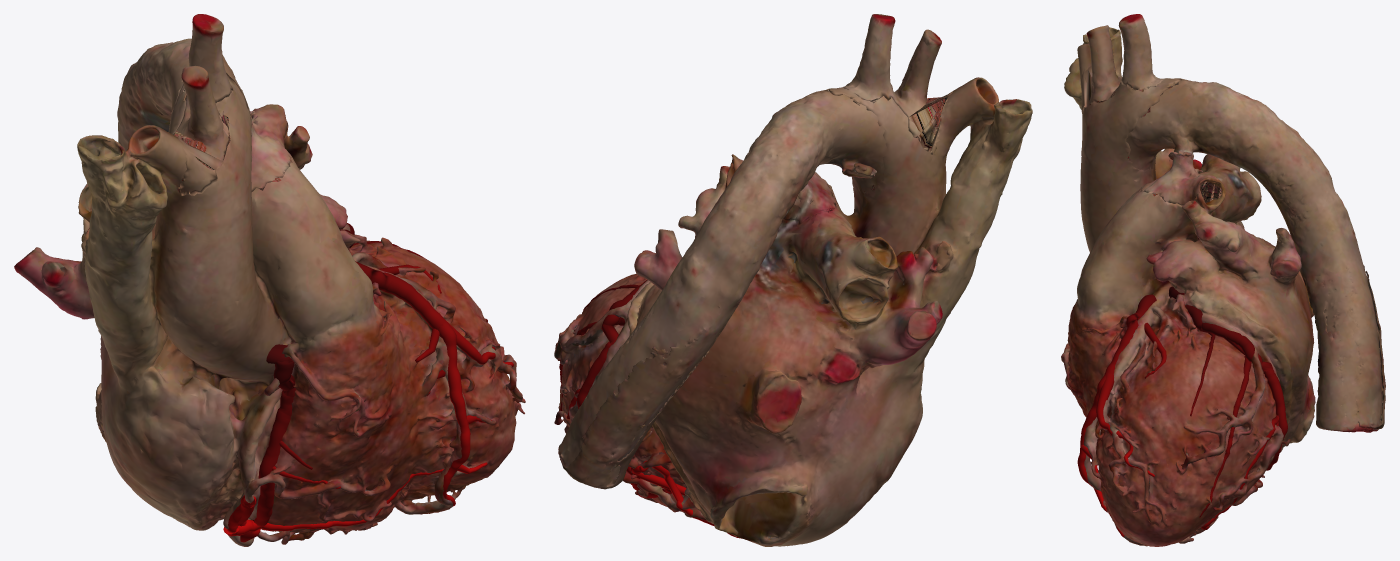
Rendered from heart-realistic.glb.
3 views of the same model, side by side, from view 1: azimuth 30°, elevation 25°; view 2: azimuth 150°, elevation 25°; view 3: azimuth 270°, elevation 25° (orthographic). The views are drawn at different scales.
Parts seen in each view (by area): view 1: Heart_Body, Aorta, RCA, LAD; view 2: Heart_Body, Aorta, LCX; view 3: Heart_Body, Aorta, LCX, LAD.
Part boxes in pixels (x1=…): Heart_Body: x1=14, y1=73, x2=525, y2=546; Aorta: x1=117, y1=14, x2=291, y2=195; RCA: x1=223, y1=344, x2=443, y2=542; LAD: x1=355, y1=261, x2=513, y2=506; Heart_Body: x1=554, y1=77, x2=1032, y2=546; Aorta: x1=558, y1=14, x2=952, y2=489; LCX: x1=559, y1=280, x2=741, y2=538; Heart_Body: x1=1061, y1=27, x2=1315, y2=546; Aorta: x1=1080, y1=14, x2=1385, y2=432; LCX: x1=1169, y1=286, x2=1287, y2=529; LAD: x1=1077, y1=294, x2=1166, y2=537.
Bounding box in the file's own units: 2.13 × 2.5 × 1.63.
4 materials, 1 textured.
